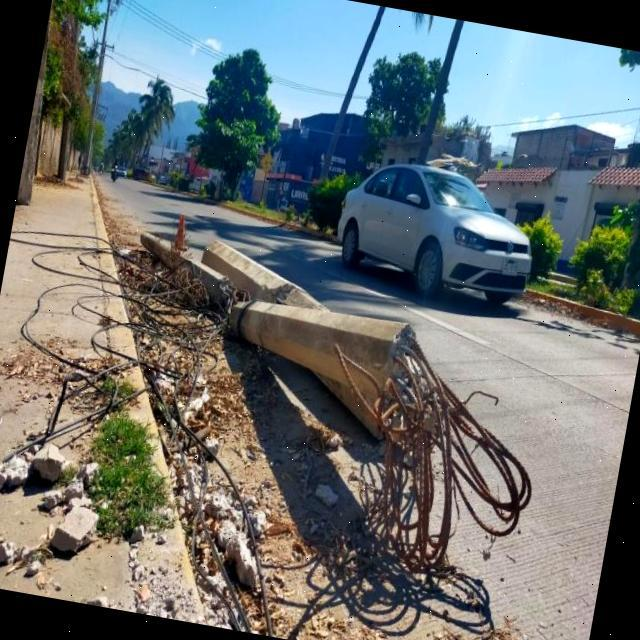Broken Pole: (139, 227, 535, 584)
